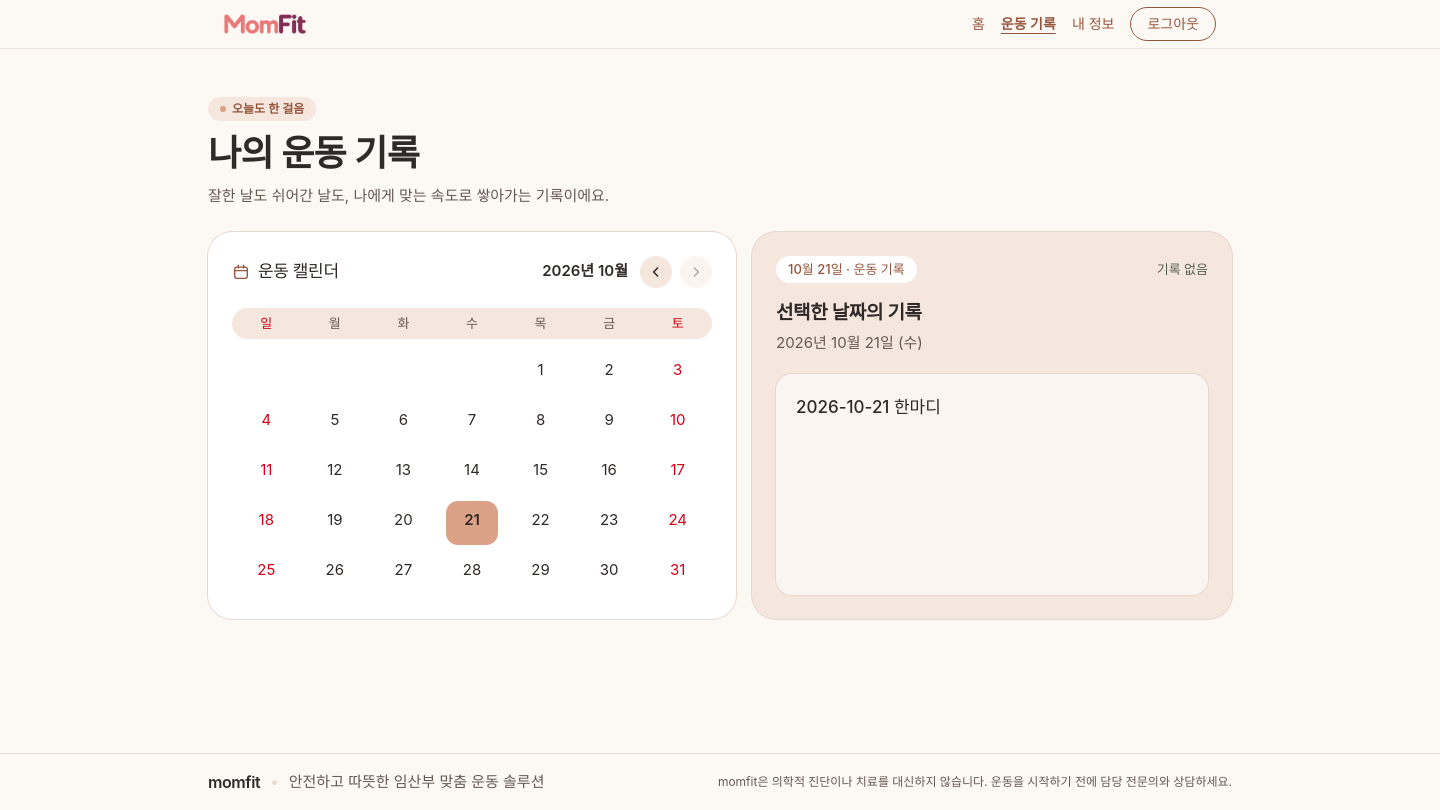
Scenario: RecordsPage › 선택한 날짜의 리포트를 카드 안에 보여준다
Expected: the text "2026-10-21 한마디" is shown, 796,397 -> 941,417
Click the button named "10월 19일".
click(335, 523)  # box 309,501 -> 361,545
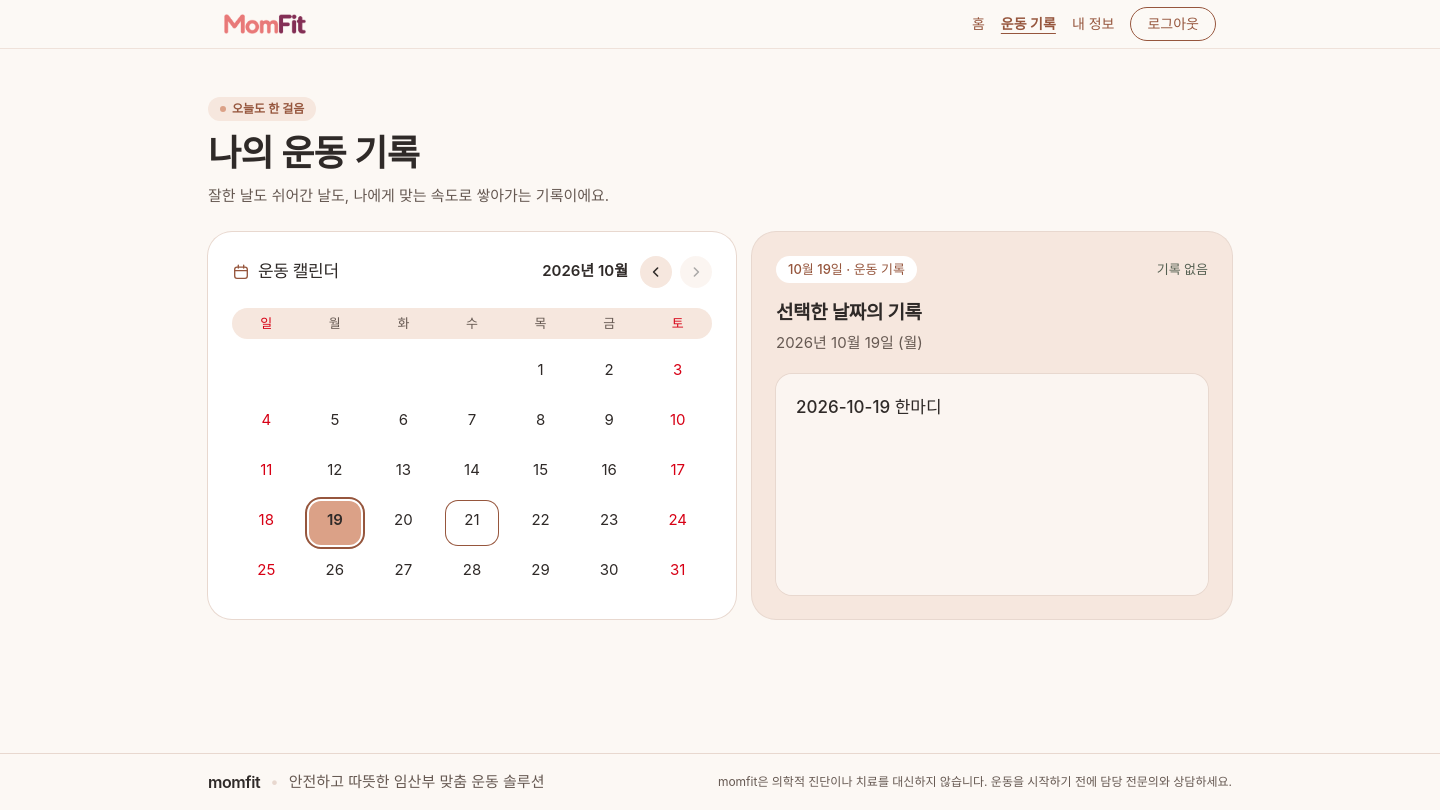
Expected: the text "2026-10-19 한마디" is shown, 796,397 -> 942,417
